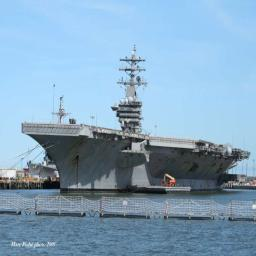Portanaves: (20, 38, 254, 196)
